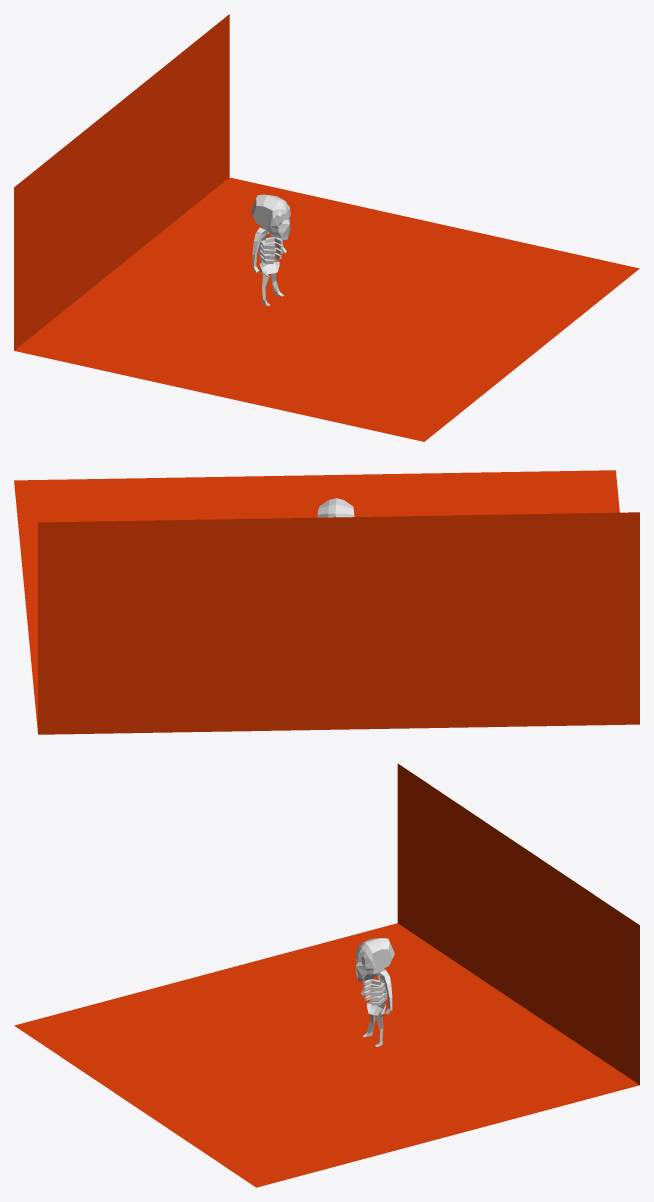
Rendered from SkeletonVillain.fbx.
The picture shows the model from 3 angles, top to bottom: view 1: azimuth 30°, elevation 25°; view 2: azimuth 150°, elevation 25°; view 3: azimuth 270°, elevation 25°; orthographic projection. The views are drawn at different scales.
Visible parts, largest first — view 1: Plane, Circle; view 2: Plane, Circle; view 3: Plane, Circle.
Part boxes in pixels (x1,y1,x2,y2): Plane: (14,14,639,441); Circle: (251,194,290,306); Plane: (14,470,639,734); Circle: (317,498,354,517); Plane: (14,763,639,1187); Circle: (355,938,394,1046).
Bounding box in the file's own units: 3252 × 917 × 3252.
